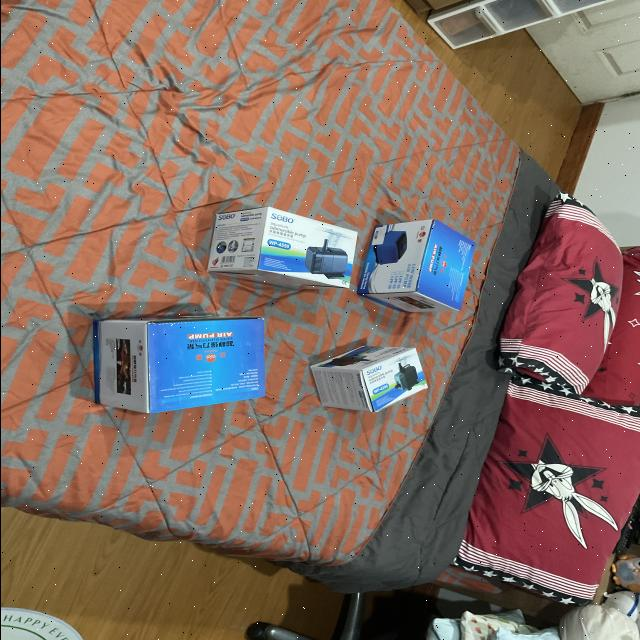SOBO_WP_4200: (188, 198, 360, 308), (286, 341, 432, 434)
YAMANO_LPP_20: (75, 310, 279, 424), (338, 214, 470, 328)
